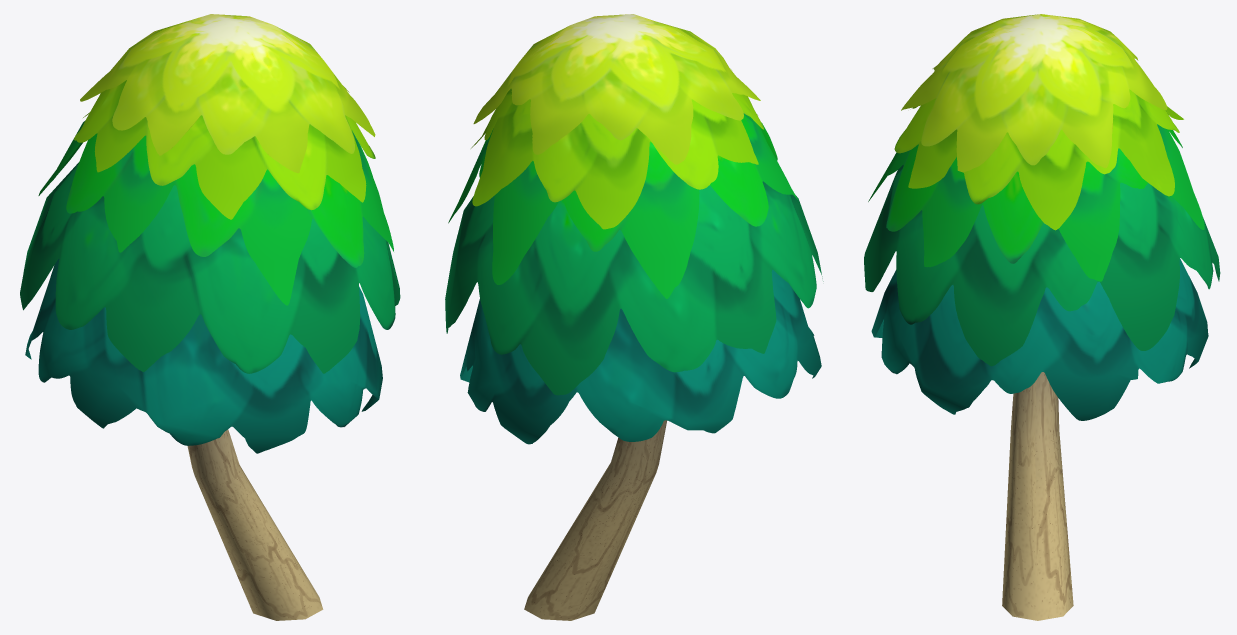
File: tree7.fbx
3 renders of one model, left to right at view 1: azimuth 30°, elevation 25°; view 2: azimuth 150°, elevation 25°; view 3: azimuth 270°, elevation 25°, orthographic. The views are drawn at different scales.
Visible parts, largest first — view 1: Circle.003, Cylinder.002; view 2: Circle.003, Cylinder.002; view 3: Circle.003, Cylinder.002.
Part boxes in pixels (x1,y1,x2,y2): Circle.003: [20, 14, 400, 453]; Cylinder.002: [187, 429, 323, 620]; Circle.003: [445, 14, 823, 444]; Cylinder.002: [524, 420, 667, 620]; Circle.003: [864, 14, 1220, 420]; Cylinder.002: [1002, 372, 1073, 620].
Size of the model in its own units: 971 by 1602 by 950.
